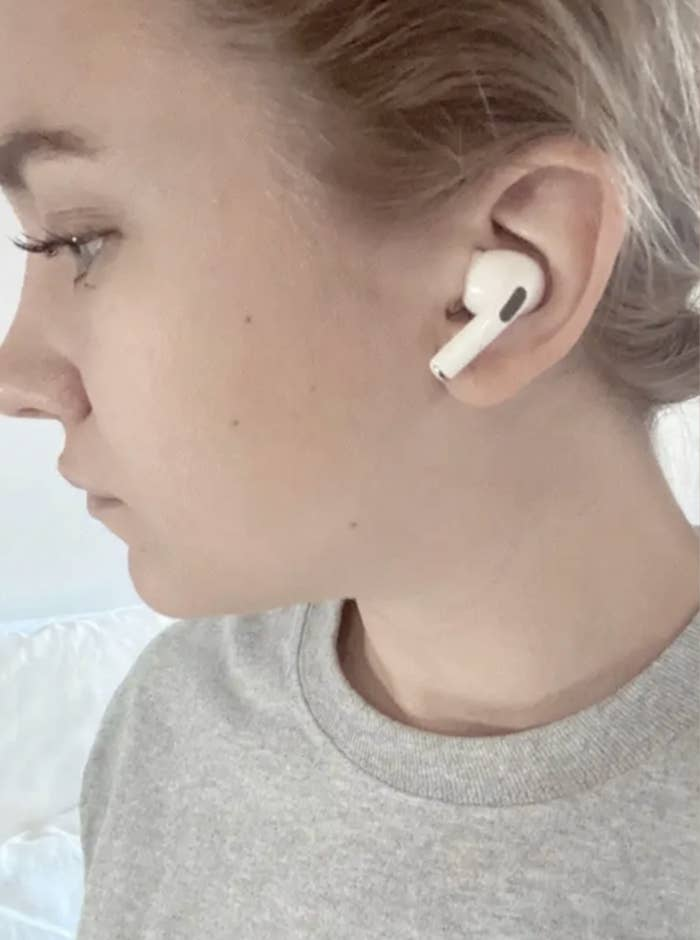earphone: (424, 134, 620, 408)
